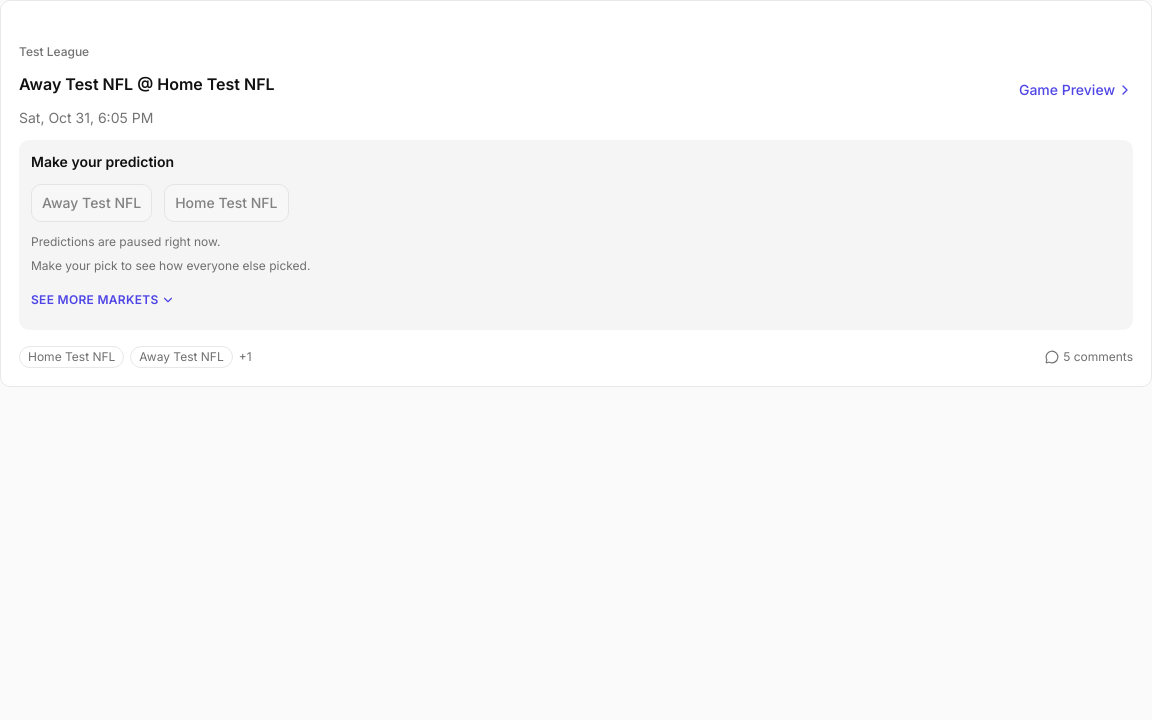
Test: GamePostCard › inline multi-market expansion (a signed-in viewer's feed) › each Market reveals ITS OWN sentiment only after the viewer's Pick on that Market
Click the button with aria-label "markets for".
click(103, 300)  # box [27,282,179,318]
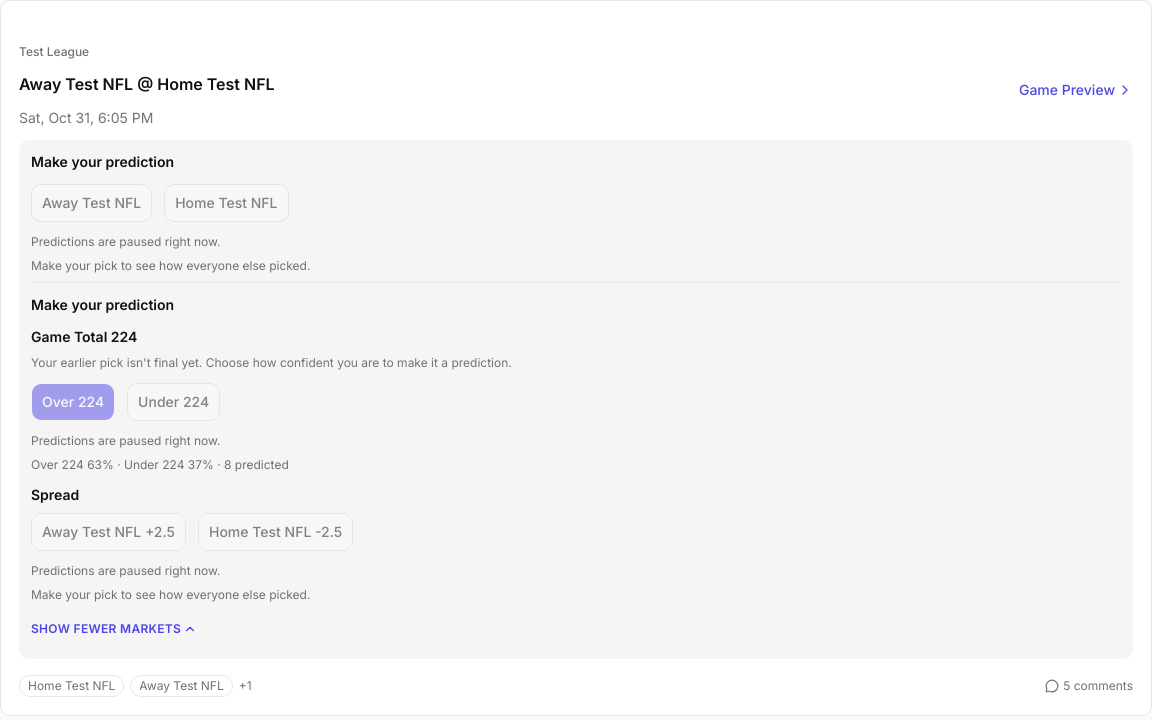
Result: the element that starts with "Game Total 224" shows "Over 224 63% · Under 224 37% · 8 predicted" at [31,328,512,472]
Result: the element that starts with "Spread" shows "Make your pick to see how everyone else picked." at [31,587,310,602]
